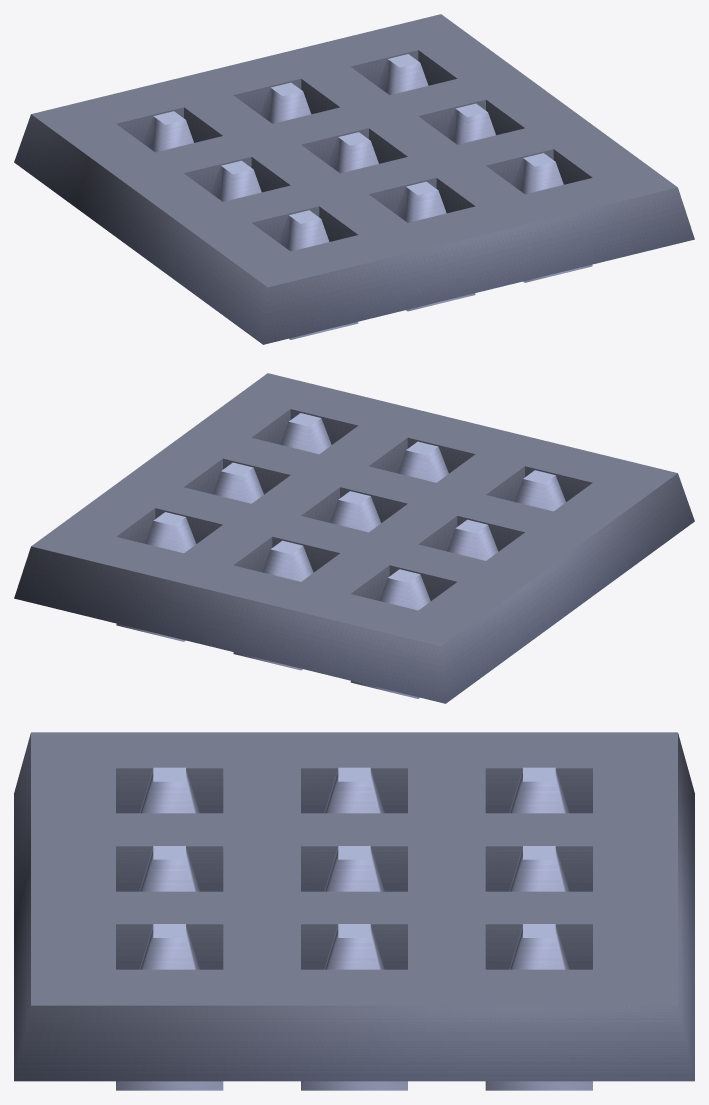
File: trap-spikes-large.glb
3 views of the same model, one above another, from view 1: azimuth 30°, elevation 25°; view 2: azimuth 150°, elevation 25°; view 3: azimuth 270°, elevation 25° (orthographic). The views are drawn at different scales.
Parts seen in each view (by area): view 1: trap-spikes-large, spikes; view 2: trap-spikes-large, spikes; view 3: trap-spikes-large, spikes.
Boxes of the visible parts, box(x1,y1,x2,y2) form: trap-spikes-large: box(14, 14, 694, 344); spikes: box(143, 54, 592, 339); trap-spikes-large: box(14, 373, 694, 703); spikes: box(116, 413, 565, 698); trap-spikes-large: box(14, 732, 694, 1081); spikes: box(116, 767, 592, 1090).
Size of the model in its own units: 0.765 by 0.17 by 0.765.
1 material, 1 textured.
